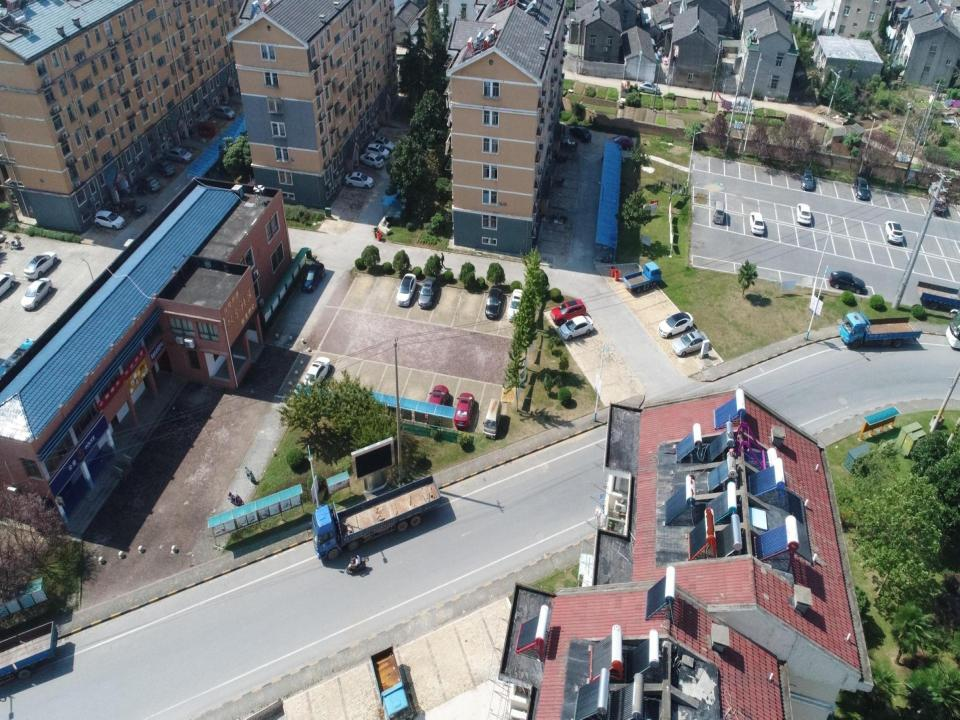car: (657, 311, 694, 338), (21, 277, 52, 309), (830, 267, 866, 294), (23, 250, 56, 279), (672, 330, 707, 356), (551, 298, 586, 324), (559, 315, 595, 340), (428, 386, 448, 424), (454, 393, 474, 428), (396, 272, 416, 306), (302, 261, 324, 291), (94, 210, 125, 230), (419, 275, 437, 308), (508, 288, 524, 324), (486, 286, 503, 318), (883, 220, 903, 246), (345, 171, 374, 188), (568, 125, 592, 144), (853, 176, 870, 201), (0, 272, 15, 300), (607, 135, 633, 151), (360, 152, 384, 169), (371, 136, 395, 153), (366, 142, 389, 159), (749, 212, 765, 236), (156, 160, 176, 178), (169, 146, 193, 160), (800, 168, 814, 192), (638, 81, 660, 95), (796, 204, 811, 224), (216, 106, 235, 120), (140, 176, 159, 190)
truck: (312, 474, 441, 562), (2, 621, 58, 681), (370, 646, 415, 719), (838, 311, 922, 350), (917, 280, 959, 312), (624, 261, 662, 294), (928, 180, 947, 219)
van: (484, 398, 502, 439), (713, 201, 725, 224), (197, 123, 214, 138)
